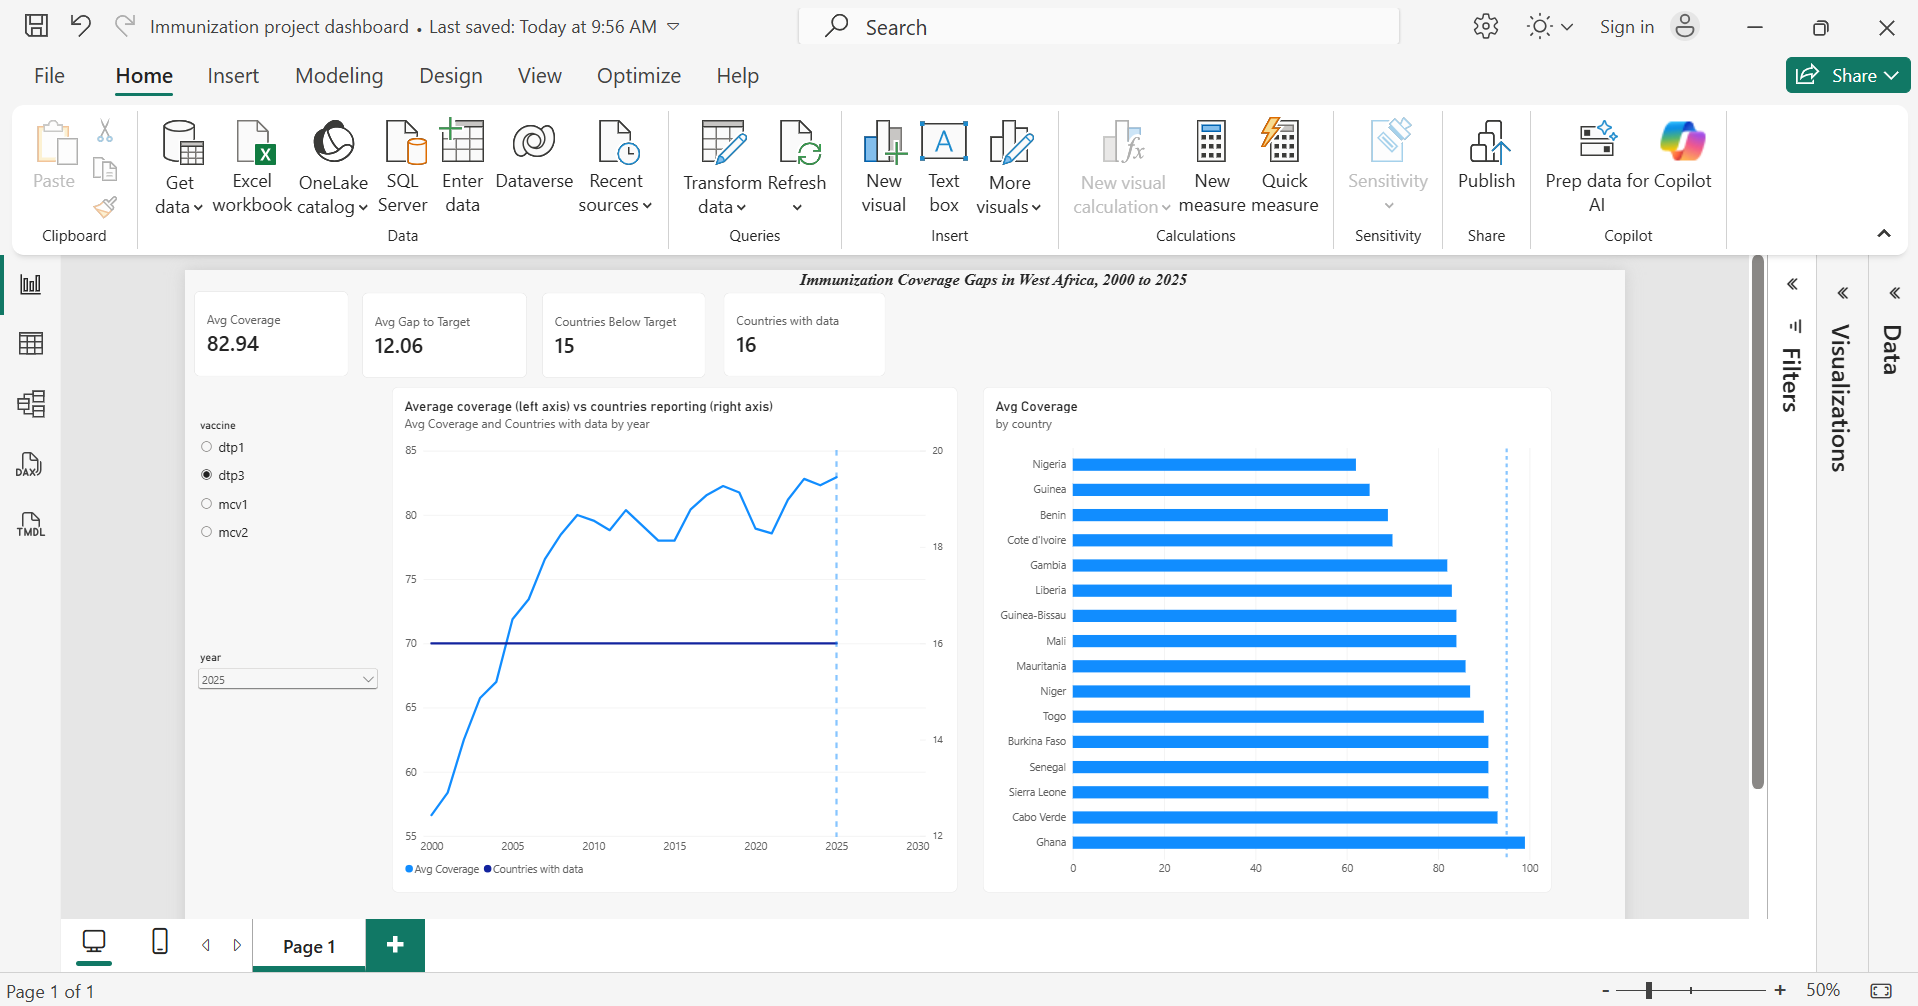

This screenshot's page, from the dashboard's own definition file:
{"tool":"powerbi","page":{"name":"Page 1","canvas":[1920,1080],"ordinal":0},"visuals":[{"type":"slicer","fields":{"Values":["wuenic_west_africa_long.vaccine"]},"box":[12,198,250,256],"z":0},{"type":"slicer","fields":{"Values":["wuenic_west_africa_long.year"]},"box":[12,508,250,122],"z":1000},{"type":"cardVisual","fields":{"Data":["wuenic_west_africa_long.Avg Coverage"]},"box":[12,28,206,114],"z":2000},{"type":"cardVisual","fields":{"Data":["wuenic_west_africa_long.Avg Gap to Target"]},"box":[236,30,220,114],"z":3000},{"type":"cardVisual","fields":{"Data":["wuenic_west_africa_long.Countries Below Target"]},"box":[476,30,218,114],"z":4000},{"type":"clusteredBarChart","fields":{"Category":["wuenic_west_africa_long.country"],"Y":["wuenic_west_africa_long.Avg Coverage"]},"box":[1064,156,758,674],"z":5000},{"type":"lineChart","title":"Average coverage (left axis) vs countries reporting (right axis)","fields":{"Category":["wuenic_west_africa_long.year"],"Y":["wuenic_west_africa_long.Avg Coverage"],"Y2":["wuenic_west_africa_long.Countries with data"]},"box":[276,156,754,674],"z":6000},{"type":"textbox","box":[1540,156,380,674],"z":7000},{"type":"textbox","box":[524,0,1108,58],"z":8000},{"type":"cardVisual","fields":{"Data":["wuenic_west_africa_long.Countries with data"]},"box":[718,30,216,112],"z":8001}]}

Visuals, with their boxes on the page's 1920x1080 design canvas (x1, y1, x2, y2). These are canvas units, not pixel positions in the 1918x1006 screenshot, which may show the page scaled, cropped or inside an application window:
slicer - wuenic_west_africa_long.vaccine: 12,198,262,454
slicer - wuenic_west_africa_long.year: 12,508,262,630
cardVisual - wuenic_west_africa_long.Avg Coverage: 12,28,218,142
cardVisual - wuenic_west_africa_long.Avg Gap to Target: 236,30,456,144
cardVisual - wuenic_west_africa_long.Countries Below Target: 476,30,694,144
clusteredBarChart - wuenic_west_africa_long.country x wuenic_west_africa_long.Avg Coverage: 1064,156,1822,830
"Average coverage (left axis) vs countries reporting (right axis)" lineChart: 276,156,1030,830
textbox: 1540,156,1920,830
textbox: 524,0,1632,58
cardVisual - wuenic_west_africa_long.Countries with data: 718,30,934,142
